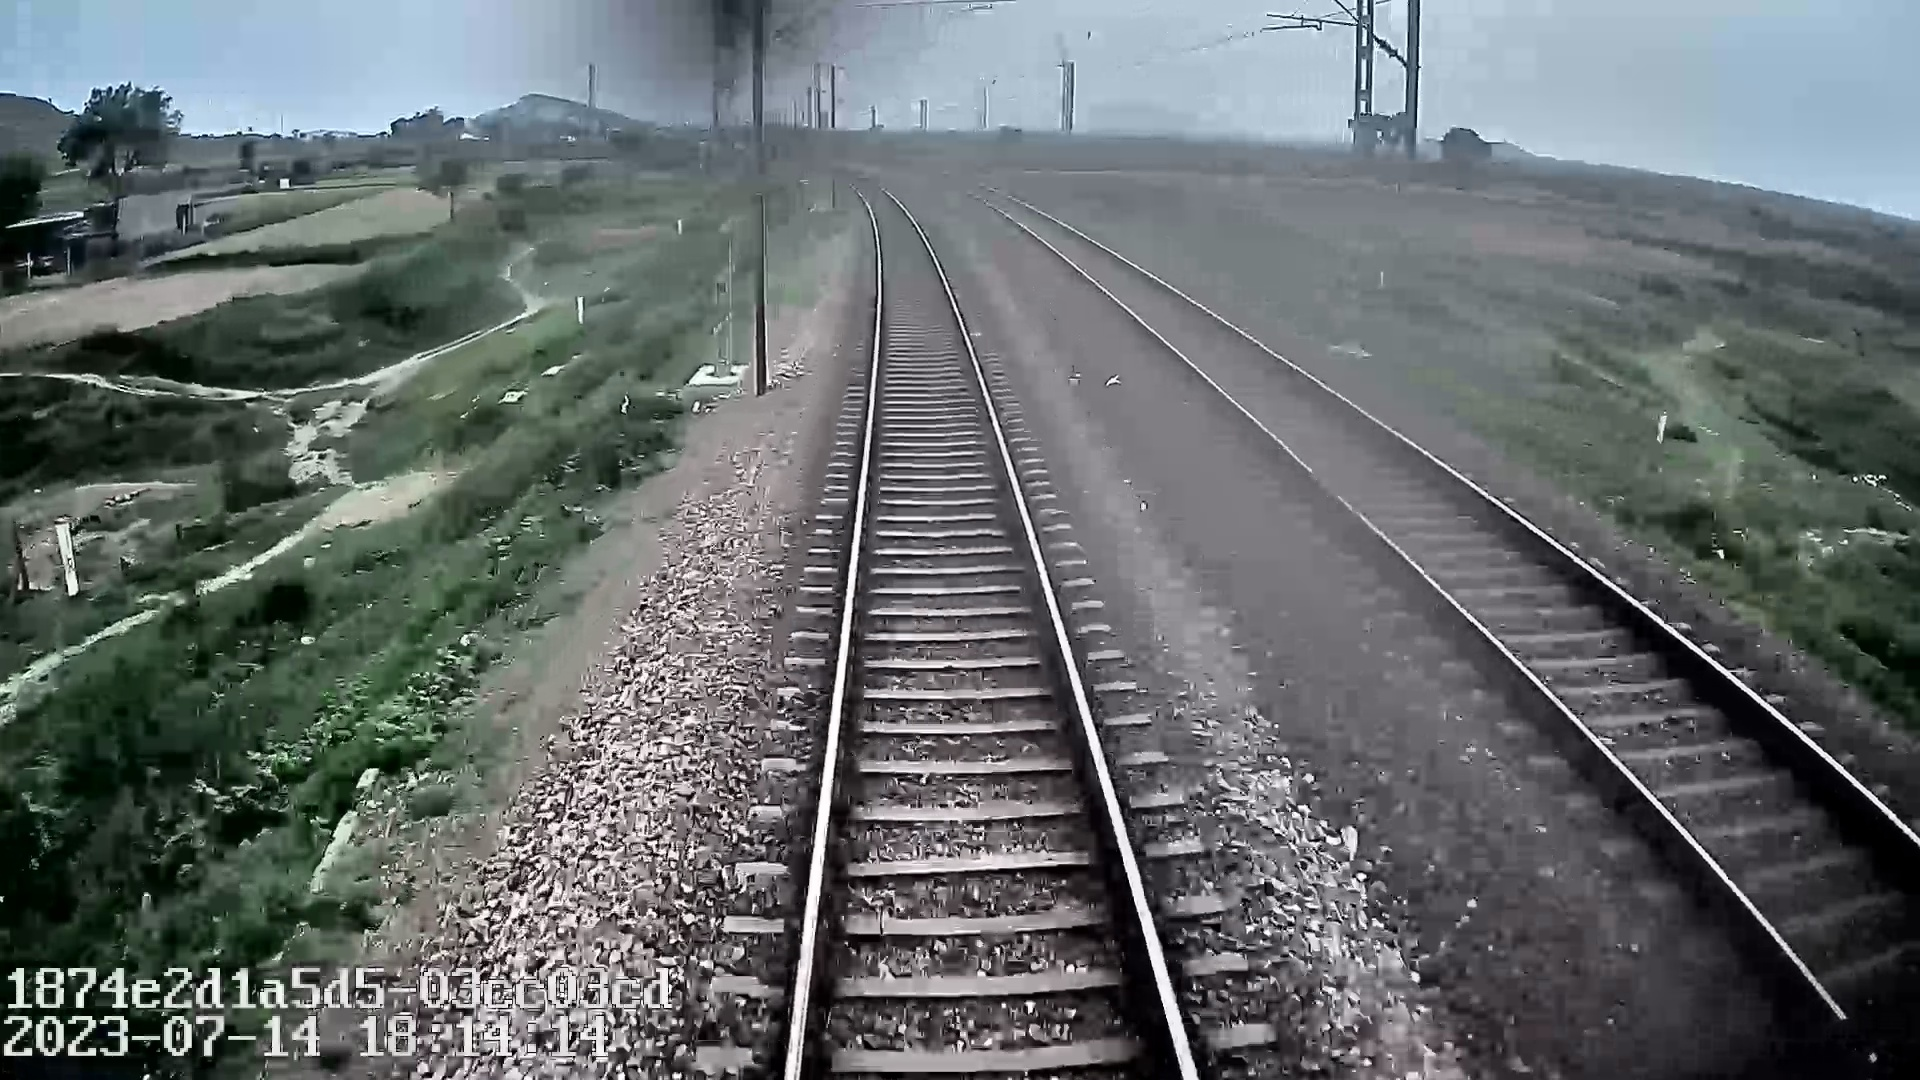track1: (793, 183, 1183, 1055)
track2: (988, 198, 1919, 1013)
